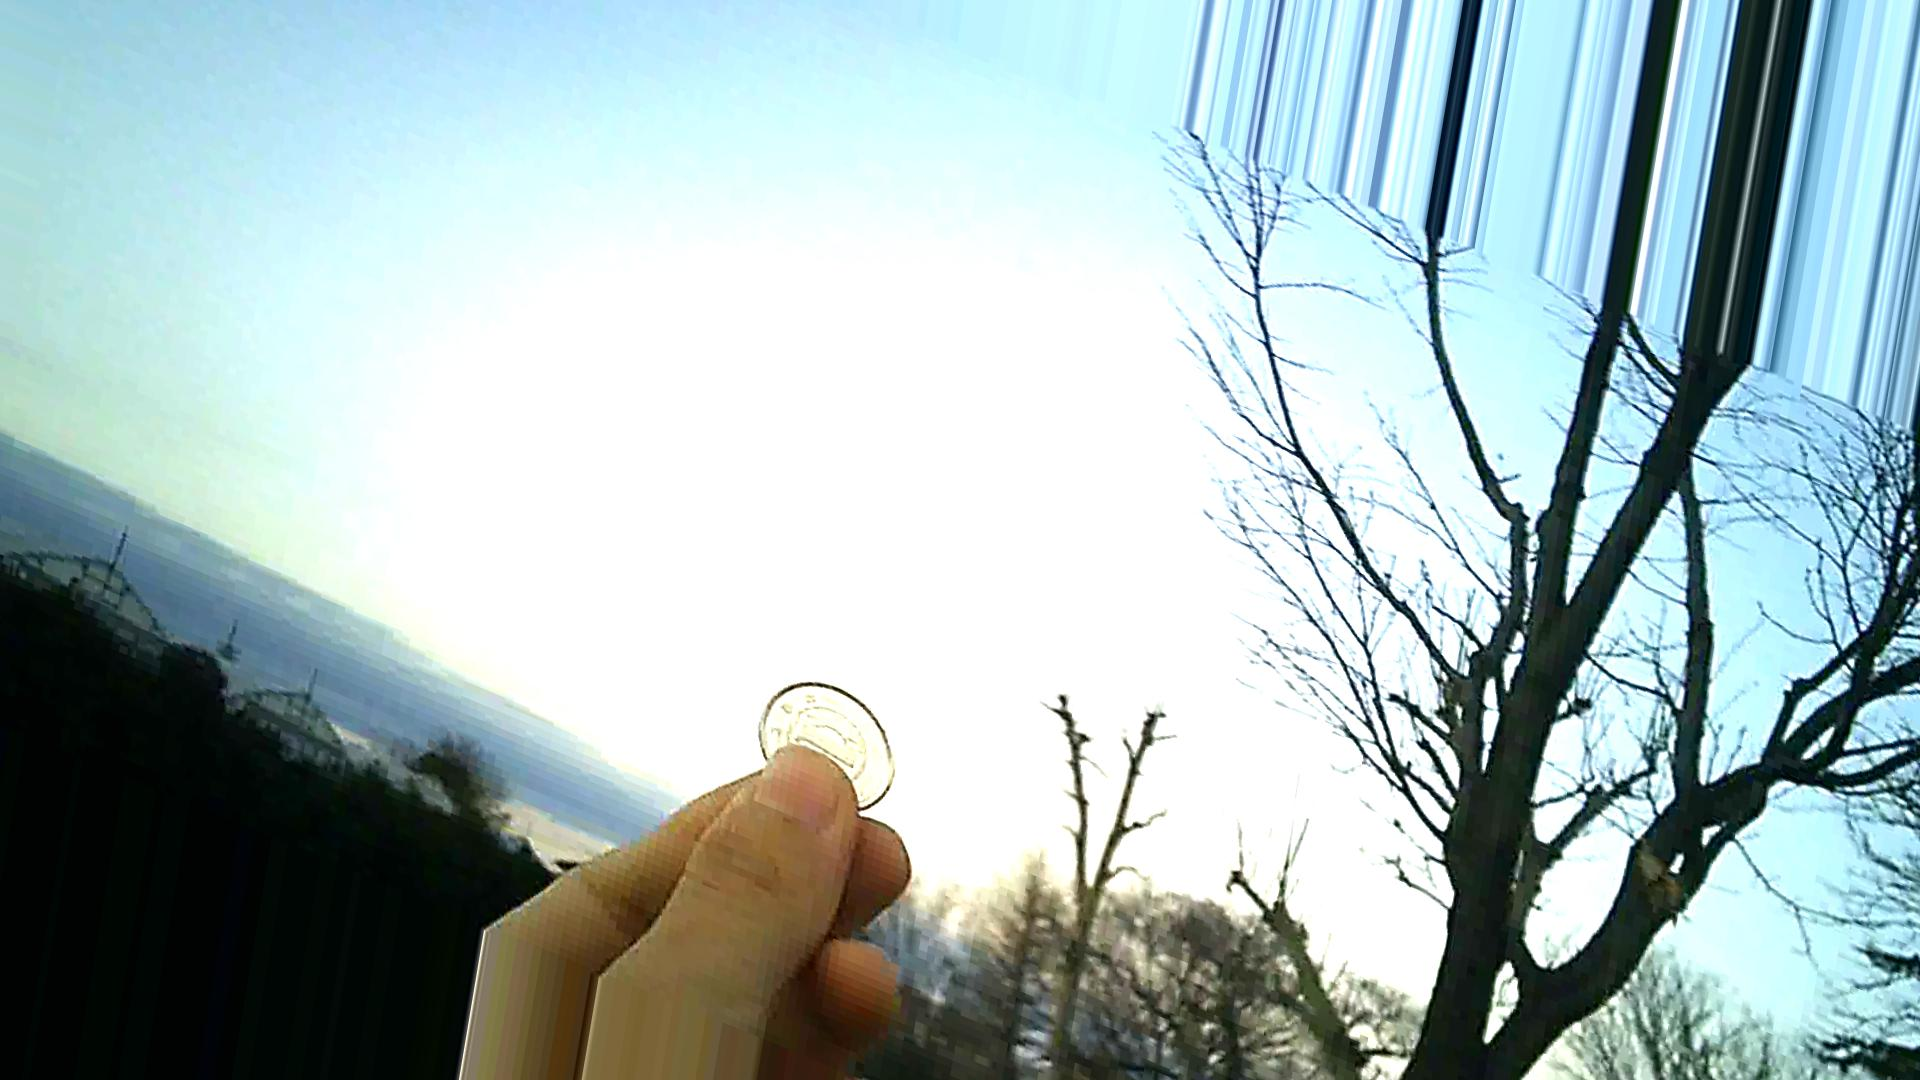1 Yen: (746, 679, 891, 812)
